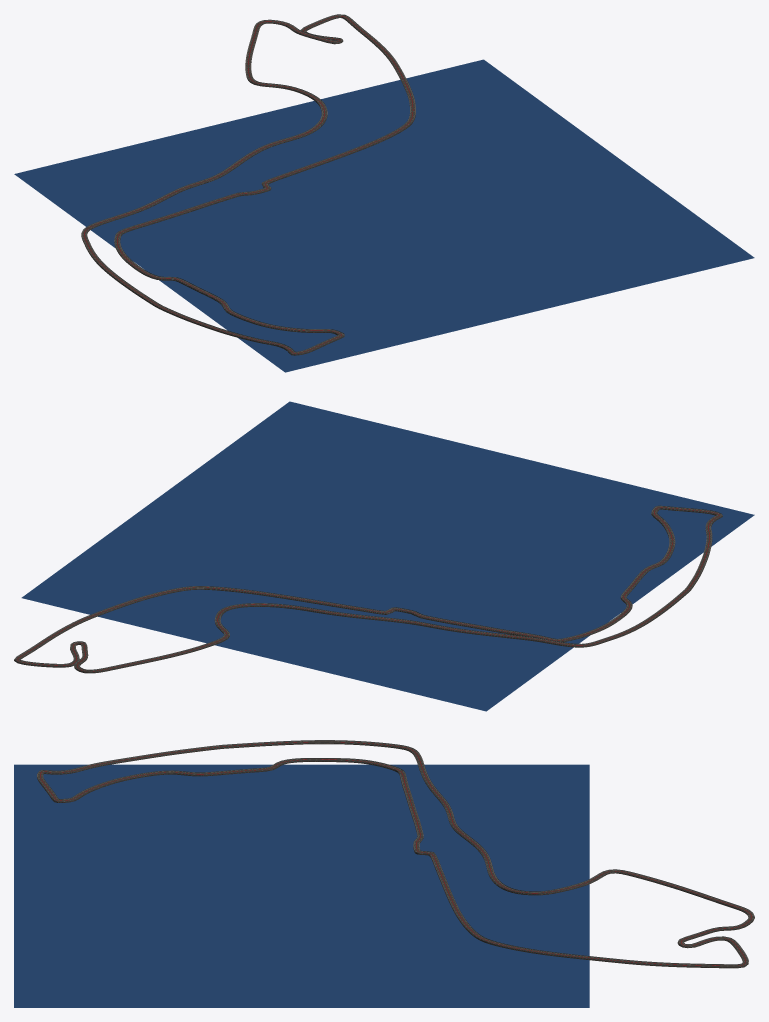
The model's file is monaco.dae.
3 renders of one model, top to bottom at view 1: azimuth 30°, elevation 25°; view 2: azimuth 150°, elevation 25°; view 3: azimuth 270°, elevation 25°, orthographic. The views are drawn at different scales.
Visible parts, largest first — view 1: agua, asfalto, barrier; view 2: agua, asfalto, barrier; view 3: agua, asfalto, barrier.
Boxes of the visible parts, box(x1,y1,x2,y2) form: agua: box(14, 59, 754, 372); asfalto: box(81, 15, 415, 355); barrier: box(81, 14, 415, 354); agua: box(21, 401, 754, 711); asfalto: box(14, 506, 722, 673); barrier: box(14, 505, 722, 672); agua: box(14, 764, 589, 1007); asfalto: box(37, 740, 754, 968); barrier: box(37, 740, 754, 967).
Size of the model in its own units: 1185 by 1416 by 51.49.
Materials: 4 (2 with a texture image).
